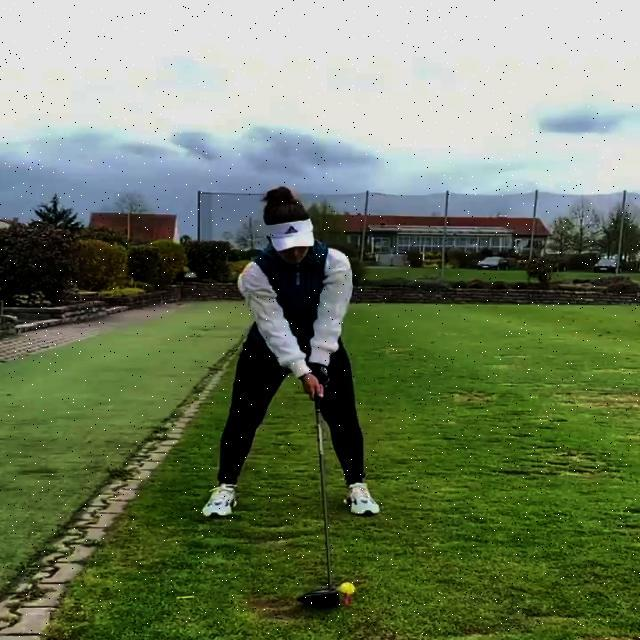ClubHandle: (293, 389, 346, 605)
ClubHead: (298, 585, 338, 604)
GolfBall: (340, 583, 356, 596)
